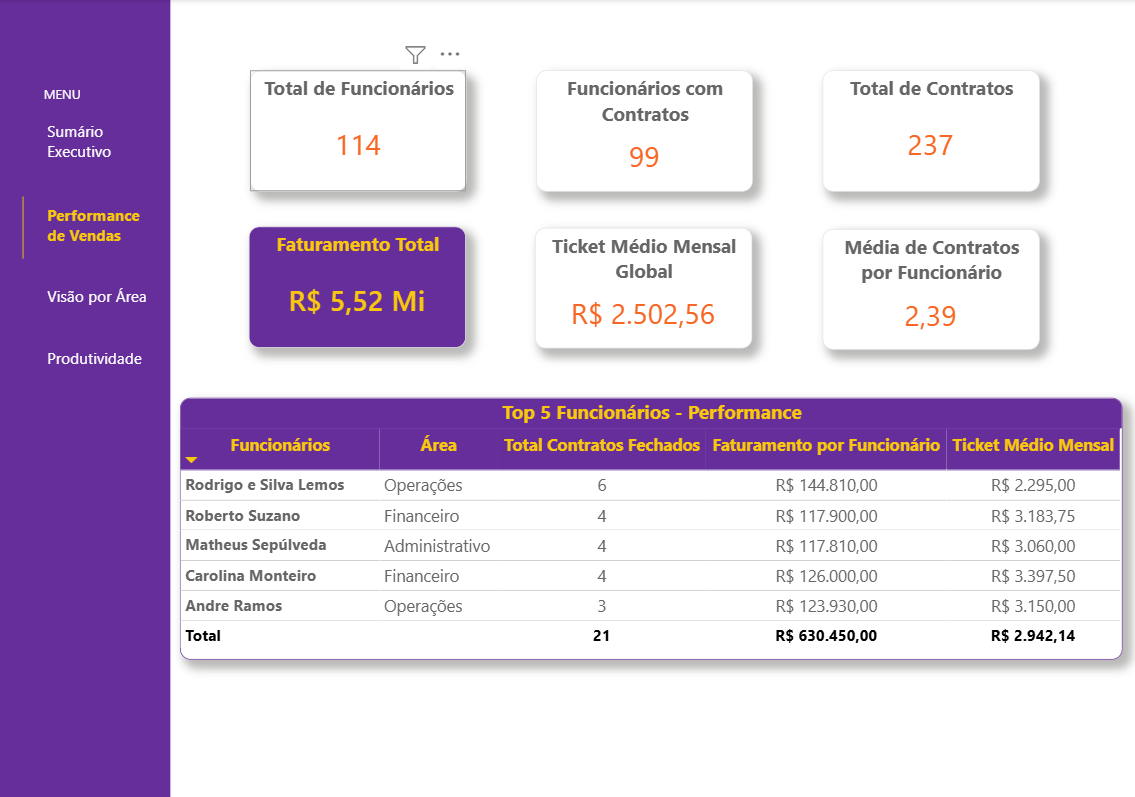

The page's visual inventory and layout, read from the dashboard file:
{"tool":"powerbi","page":{"name":"Performance de Vendas","canvas":[1280,900],"ordinal":1},"visuals":[{"type":"shape","box":[0,0,192,900],"z":0},{"type":"cardVisual","title":"Total de Funcionários","fields":{"Data":["Tab Medidas.Total Funcionários"]},"box":[281.3,80.7,244,137],"z":1000},{"type":"cardVisual","title":"Funcionários com Contratos","fields":{"Data":["Tab Medidas.Total Funcionários Ativos"]},"box":[604.1,80.7,244,137],"z":2000},{"type":"cardVisual","title":"Total de Contratos","fields":{"Data":["Tab Medidas.Total Contratos Fechados"]},"box":[926.9,80.7,244.6,137],"z":3000},{"type":"cardVisual","title":"Faturamento Total","fields":{"Data":["Sum(Ranking_Top5_Vendas.Valor Total Contratos Fechados )"]},"box":[280,256.8,244.6,137],"z":4000},{"type":"cardVisual","title":"Ticket Médio Mensal Global","fields":{"Data":["Tab Medidas.Ticket Médio Mensal"]},"box":[602.9,258,244.6,135.7],"z":5000},{"type":"cardVisual","title":"Média de Contratos por Funcionário ","fields":{"Data":["Tab Medidas.Taxa de Produtividade (Contratos p/ Funcionário)"]},"box":[926.9,259.2,244.6,135.7],"z":6000},{"type":"pivotTable","title":"Top 5 Funcionários - Performance","fields":{"Rows":["Ranking_Top5_Vendas.Nome Completo"],"Values":["Min(Ranking_Top5_Vendas.Area)","Tab Medidas.Total Contratos Fechados","Sum(Ranking_Top5_Vendas.Valor Total Contratos Fechados )","Tab Medidas.Ticket Médio Mensal"]},"box":[203.3,449.4,1062.3,295],"z":7000},{"type":"shape","box":[48.9,84,100,44],"z":8000},{"type":"actionButton","box":[48.9,222.2,131.1,64.4],"z":9000},{"type":"shape","box":[15.6,222.2,21.1,70],"z":10000},{"type":"actionButton","box":[48.9,303.3,131.1,62.2],"z":11000},{"type":"actionButton","box":[48.9,373.3,131.1,61.1],"z":12000},{"type":"actionButton","box":[48.9,128.4,131.5,62.7],"z":13000}]}

Visuals, with their boxes on the page's 1280x900 design canvas (x1, y1, x2, y2). These are canvas units, not pixel positions in the 1135x797 screenshot, which may show the page scaled, cropped or inside an application window:
shape: left=0, top=0, right=192, bottom=900
"Total de Funcionários" cardVisual: left=281, top=81, right=525, bottom=218
"Funcionários com Contratos" cardVisual: left=604, top=81, right=848, bottom=218
"Total de Contratos" cardVisual: left=927, top=81, right=1172, bottom=218
"Faturamento Total" cardVisual: left=280, top=257, right=525, bottom=394
"Ticket Médio Mensal Global" cardVisual: left=603, top=258, right=848, bottom=394
"Média de Contratos por Funcionário " cardVisual: left=927, top=259, right=1172, bottom=395
"Top 5 Funcionários - Performance" pivotTable: left=203, top=449, right=1266, bottom=744
shape: left=49, top=84, right=149, bottom=128
actionButton: left=49, top=222, right=180, bottom=287
shape: left=16, top=222, right=37, bottom=292
actionButton: left=49, top=303, right=180, bottom=366
actionButton: left=49, top=373, right=180, bottom=434
actionButton: left=49, top=128, right=180, bottom=191
